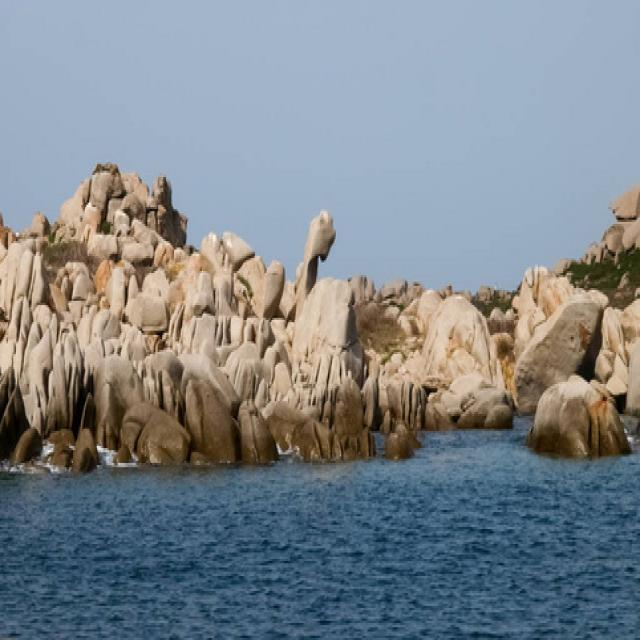reef: (18, 382, 626, 504)
